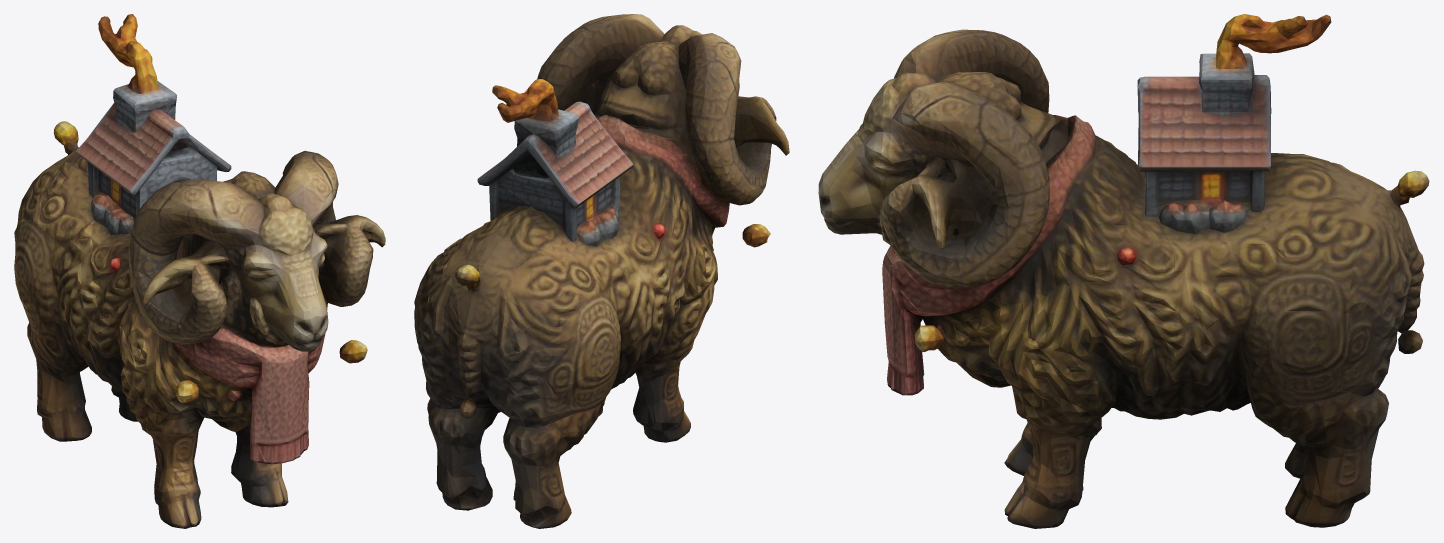
The model's file is emberlamb__hearthShepherd.glb.
3 renders of one model, left to right at view 1: azimuth 30°, elevation 25°; view 2: azimuth 150°, elevation 25°; view 3: azimuth 270°, elevation 25°, orthographic. The views are drawn at different scales.
Parts seen in each view (by area): view 1: world; view 2: world; view 3: world.
Boxes of the visible parts, <box> form: world: <box>14,14,385,528</box>; world: <box>414,14,789,528</box>; world: <box>818,14,1429,528</box>.
Bounding box in the file's own units: 0.5429 × 0.884 × 0.9982.
Materials: 1 (1 with a texture image).
